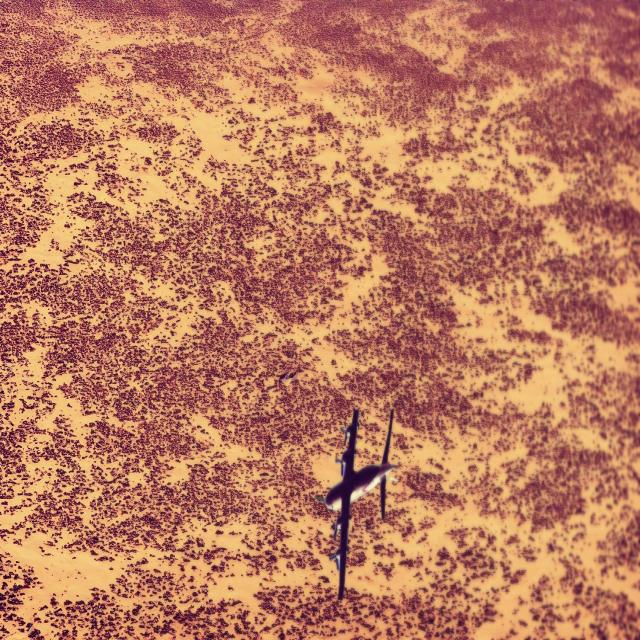airplane: (323, 406, 398, 600)
